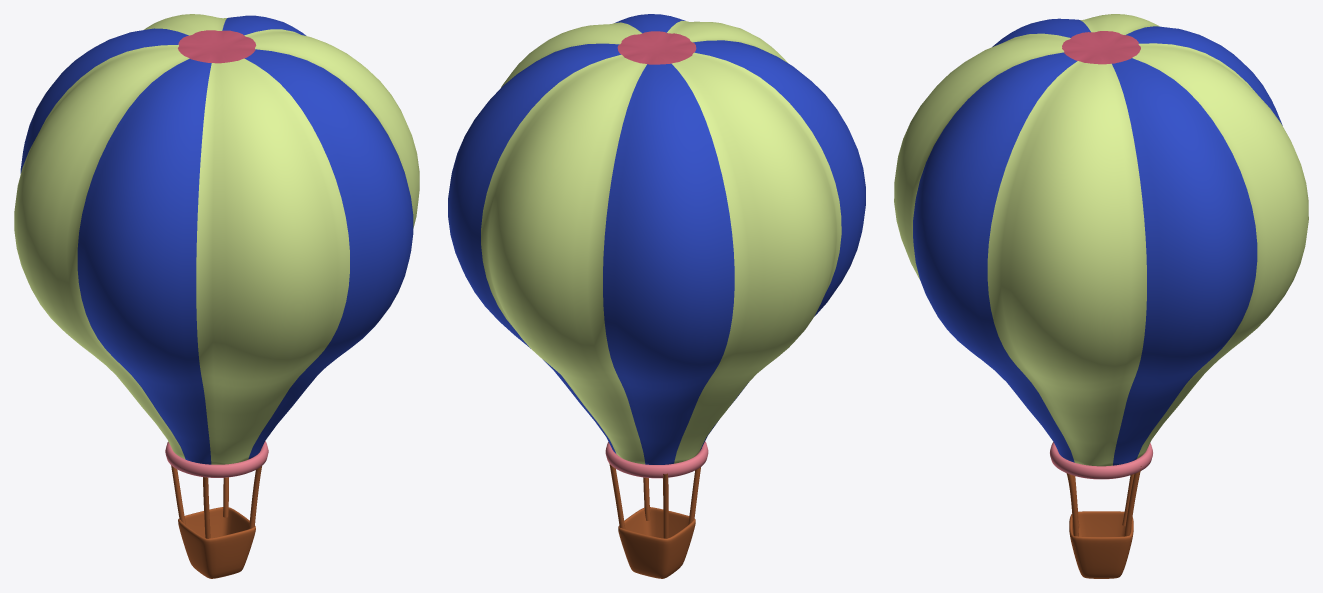
File: Balloon01.fbx
3 views of the same model, side by side, from view 1: azimuth 30°, elevation 25°; view 2: azimuth 150°, elevation 25°; view 3: azimuth 270°, elevation 25° (orthographic).
Visible parts, largest first — view 1: Sphere.005; view 2: Sphere.005; view 3: Sphere.005.
Boxes of the visible parts, left/top/right/bottom form: Sphere.005: left=14, top=14, right=419, bottom=578; Sphere.005: left=448, top=14, right=865, bottom=578; Sphere.005: left=894, top=14, right=1308, bottom=578.
Size of the model in its own units: 300 by 419 by 300.
